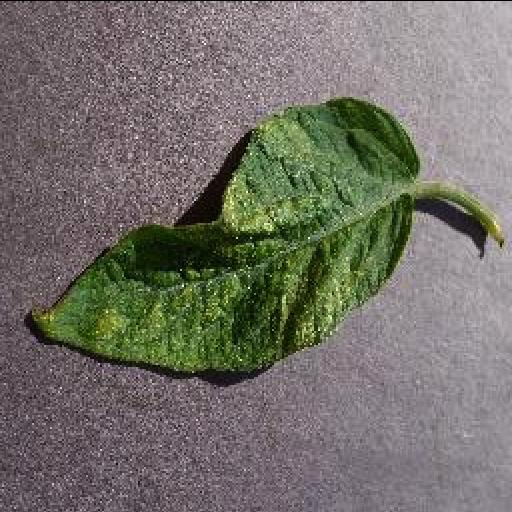disease_tomato: (26, 97, 418, 375)
